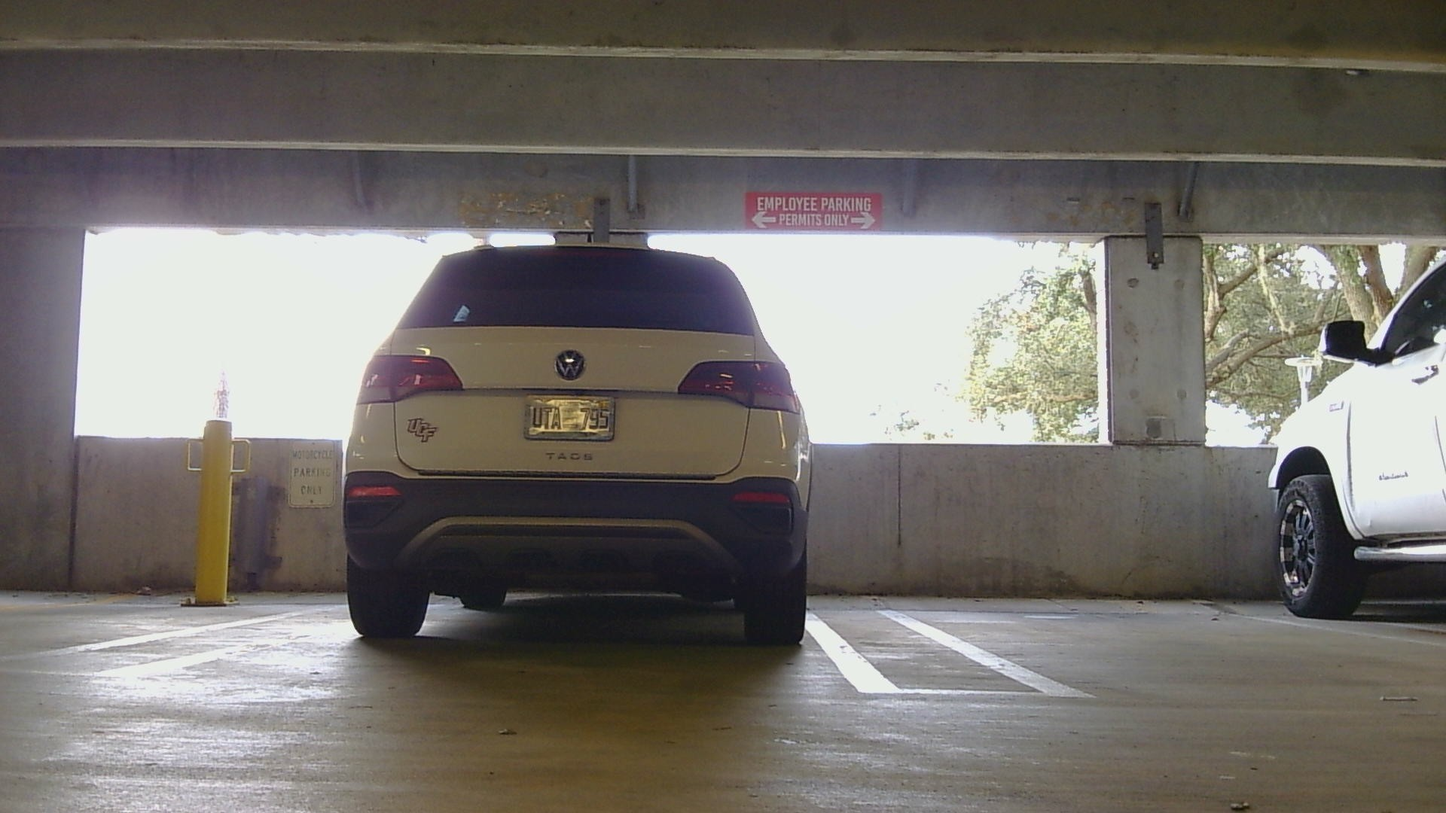empty_spot: (846, 523, 1445, 702)
occupied_spot: (213, 221, 864, 676)
